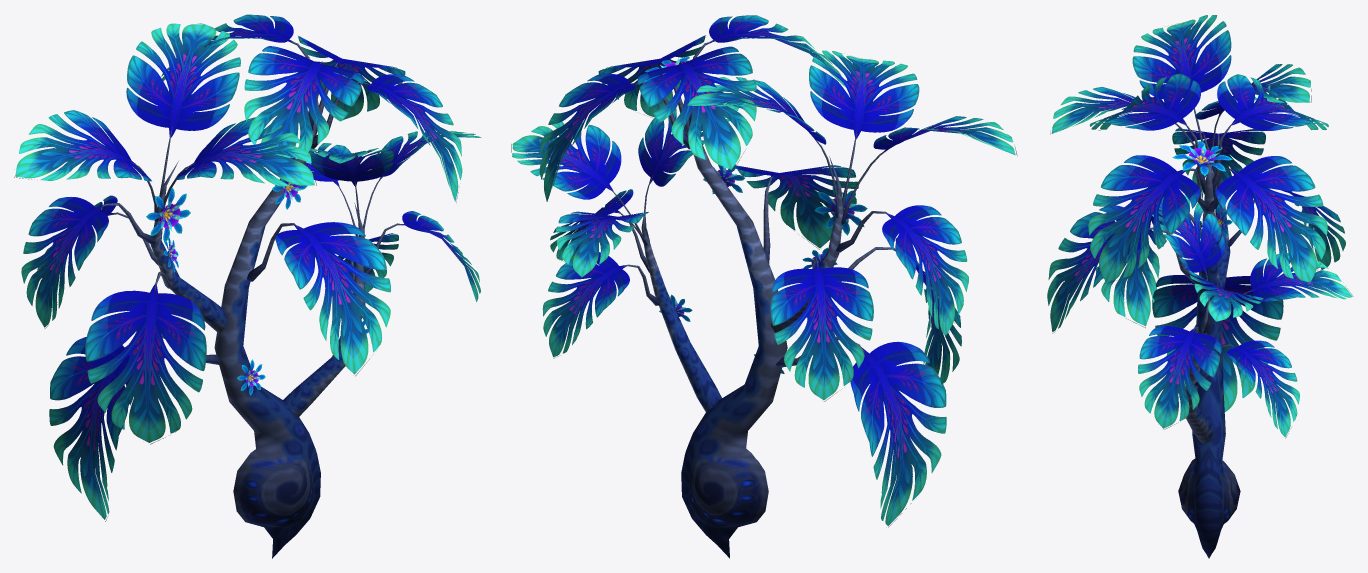
The model's file is Blue_Tree_03d.FBX.
3 renders of one model, left to right at view 1: azimuth 30°, elevation 25°; view 2: azimuth 150°, elevation 25°; view 3: azimuth 270°, elevation 25°, orthographic. The views are drawn at different scales.
Parts seen in each view (by area): view 1: Blue_Tree_03d; view 2: Blue_Tree_03d; view 3: Blue_Tree_03d.
Boxes of the visible parts, <box> form: Blue_Tree_03d: <box>14,14,481,558</box>; Blue_Tree_03d: <box>511,15,1017,558</box>; Blue_Tree_03d: <box>1047,15,1353,558</box>.
Bounding box in the file's own units: 281 × 286 × 169.
